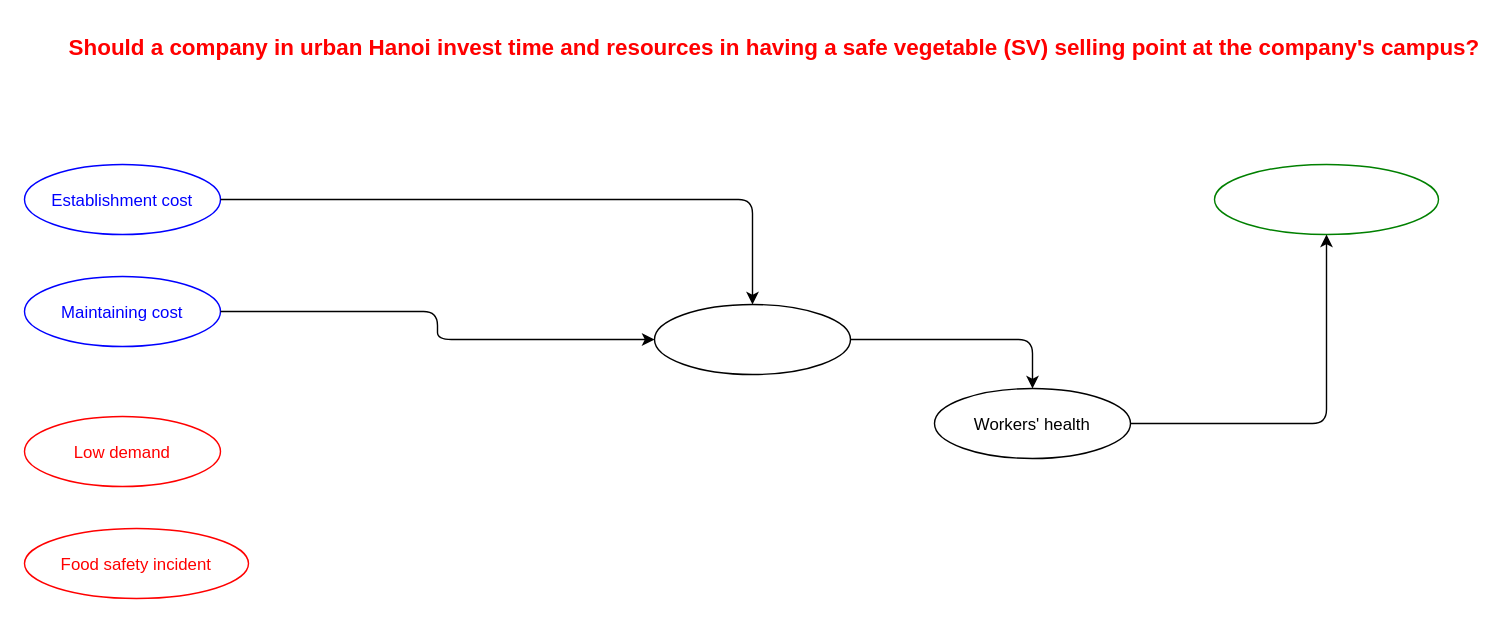
Image size: 1505x623. Some labels were removed from this diagram. Each missing label, with the box of its shape:
Company revenue: (653, 303, 850, 374)
Intervention Outcome: (1213, 163, 1438, 234)
